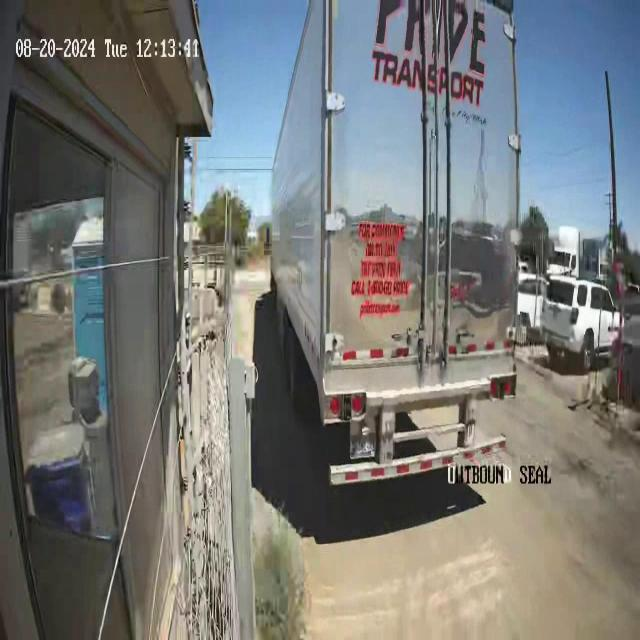TRUCK_OUT: (269, 0, 522, 470)
